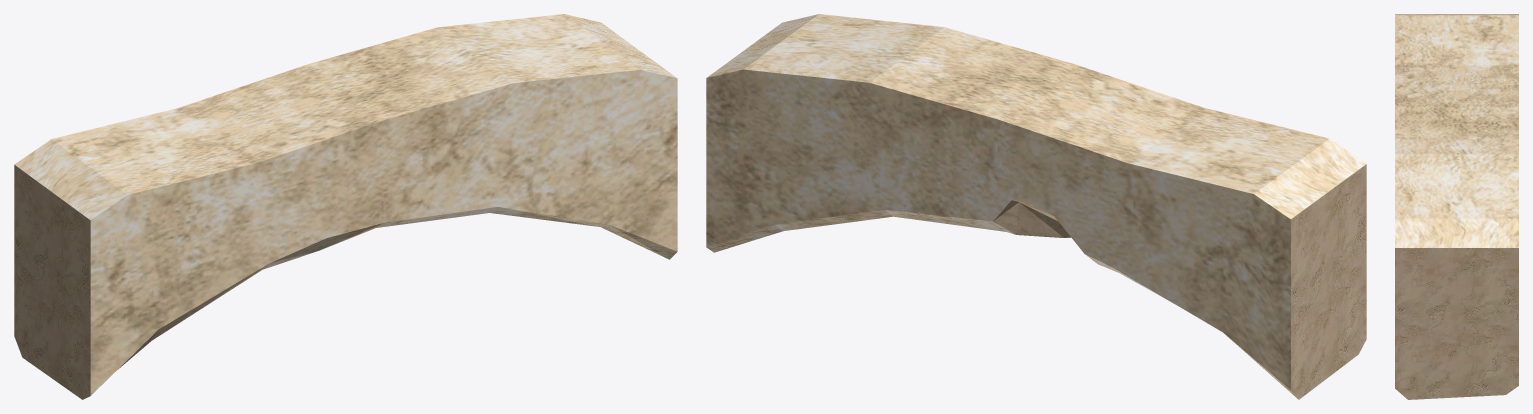
File: thm_tato_imprv_over_beam_s01_l1.fbx
The picture shows the model from 3 angles, left to right: view 1: azimuth 30°, elevation 25°; view 2: azimuth 150°, elevation 25°; view 3: azimuth 270°, elevation 25°; orthographic projection. The views are drawn at different scales.
Parts seen in each view (by area): view 1: mesh_node; view 2: mesh_node; view 3: mesh_node.
Boxes of the visible parts, <box> form: mesh_node: <box>14,14,677,399</box>; mesh_node: <box>706,14,1366,399</box>; mesh_node: <box>1395,14,1518,399</box>.
Size of the model in its own units: 4.23 by 1.53 by 0.95.
Materials: 2 (2 with a texture image).
